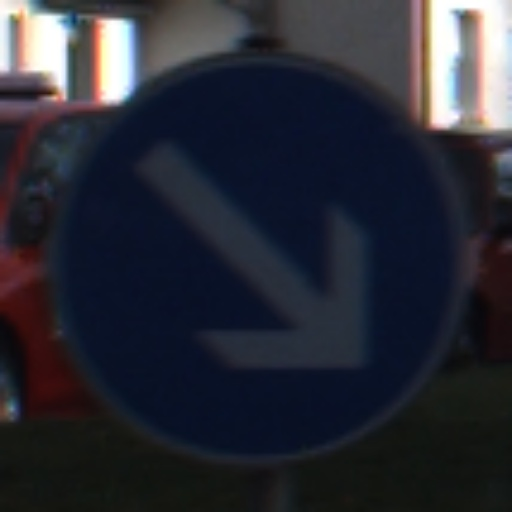Keep right: (73, 108, 445, 418)
